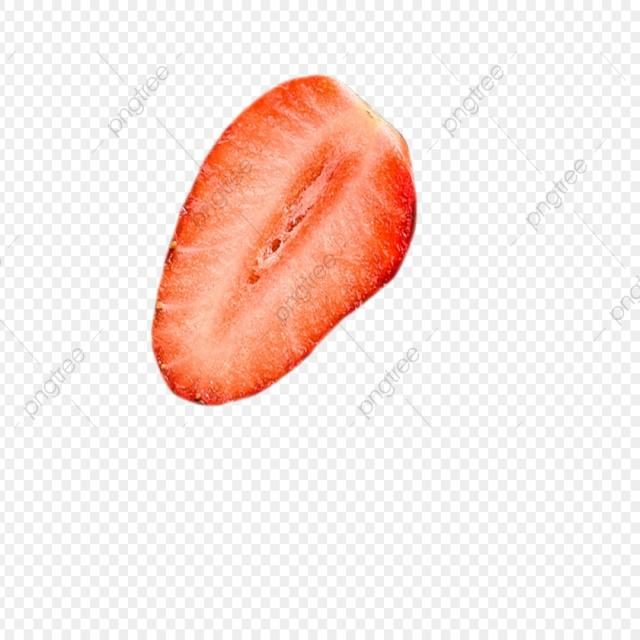strawberry: (120, 83, 432, 420)
